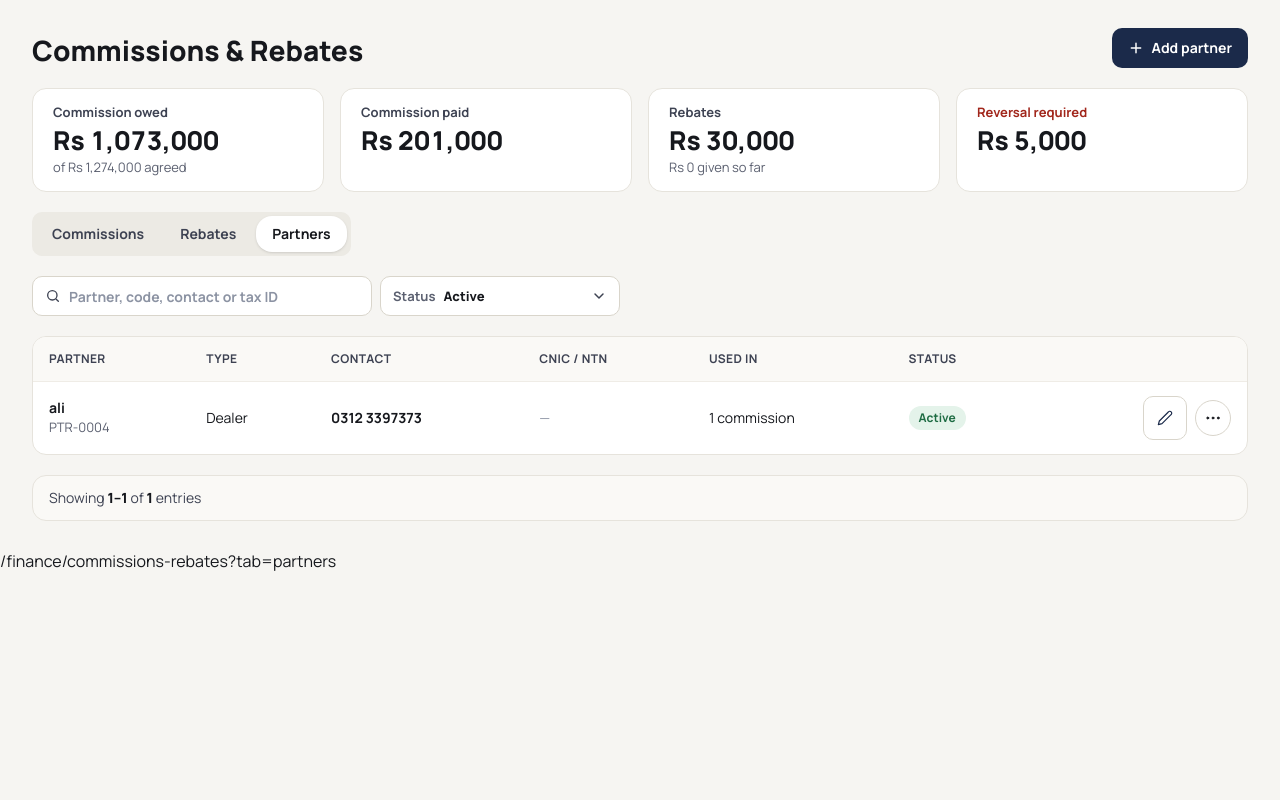
Commissions & Rebates: frame, cards and tabs › drops the notes and the red tone when a reload of the cards fails
Expected: the text "of Rs 1,274,000 agreed" is shown, [53,158,187,176]
Click the button named "More for ali".
click(1213, 418)  # box [1195,400,1231,436]
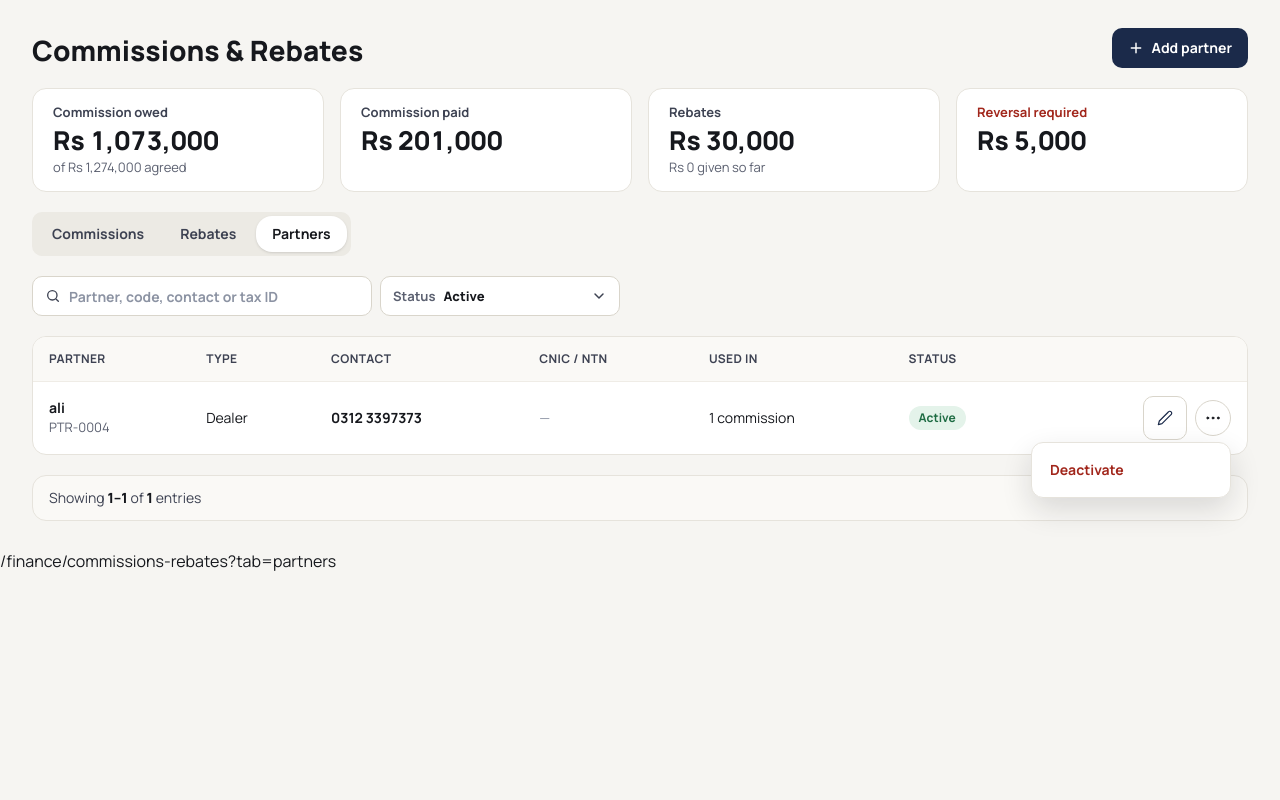
Click the menu item "Deactivate".
click(1131, 470)  # box [1038,449,1224,491]
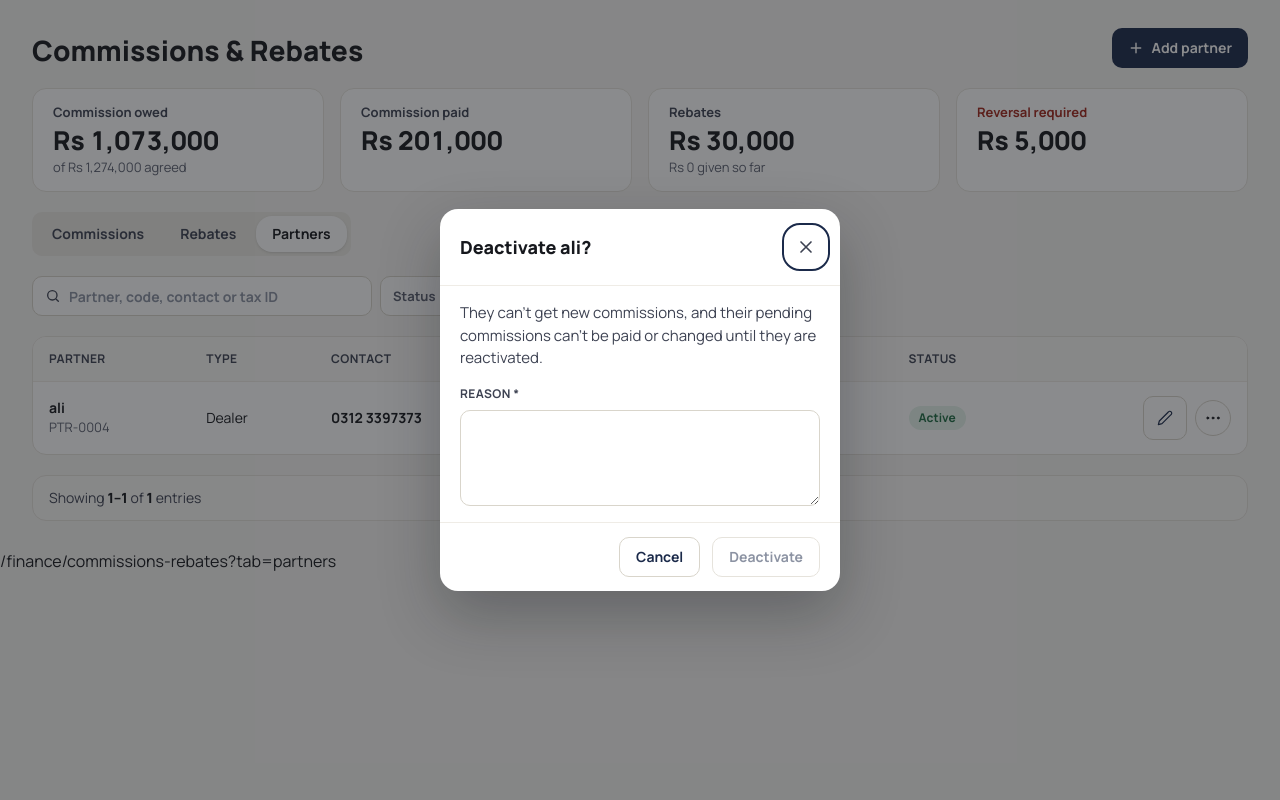
Type "Gone" into the text box labelled "Reason *".
click(640, 458); type("Gone")  # box [460,410,820,506]
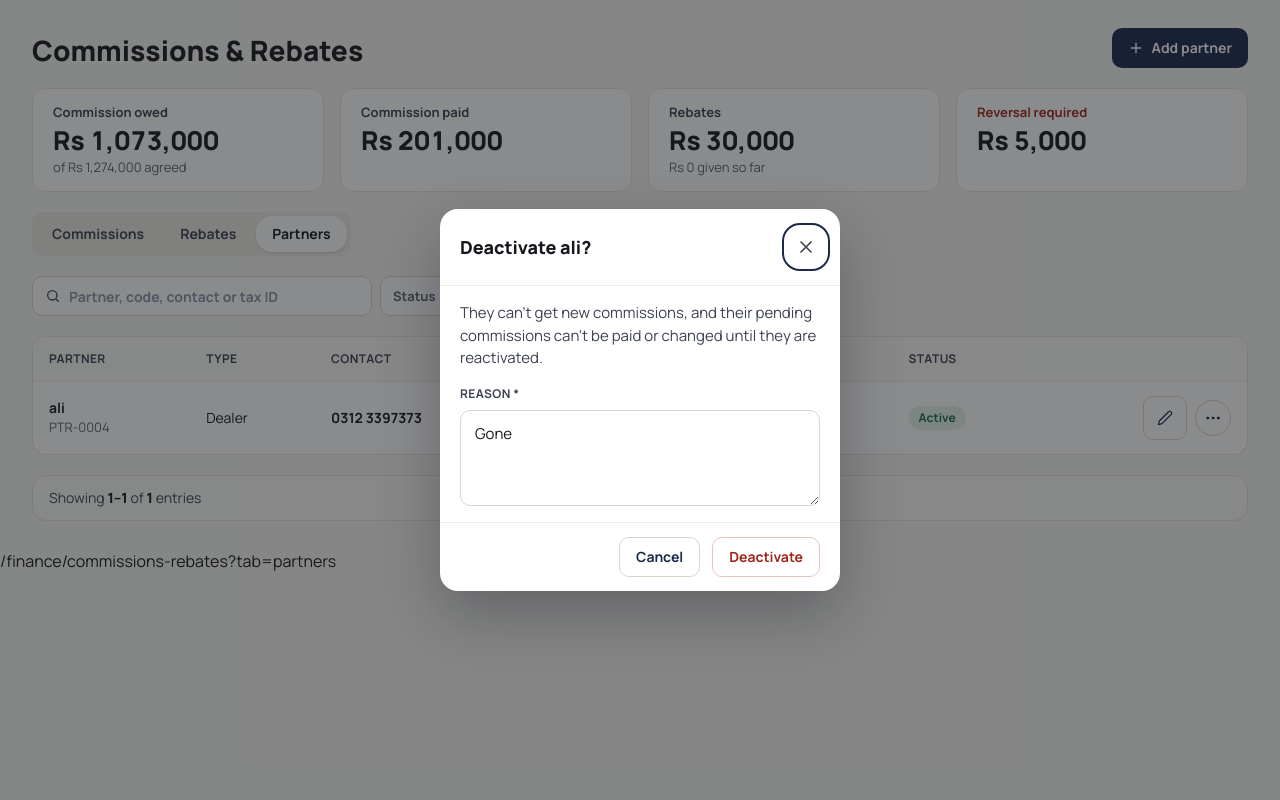
Click the button "Deactivate".
click(766, 556)  # box [712,536,820,576]
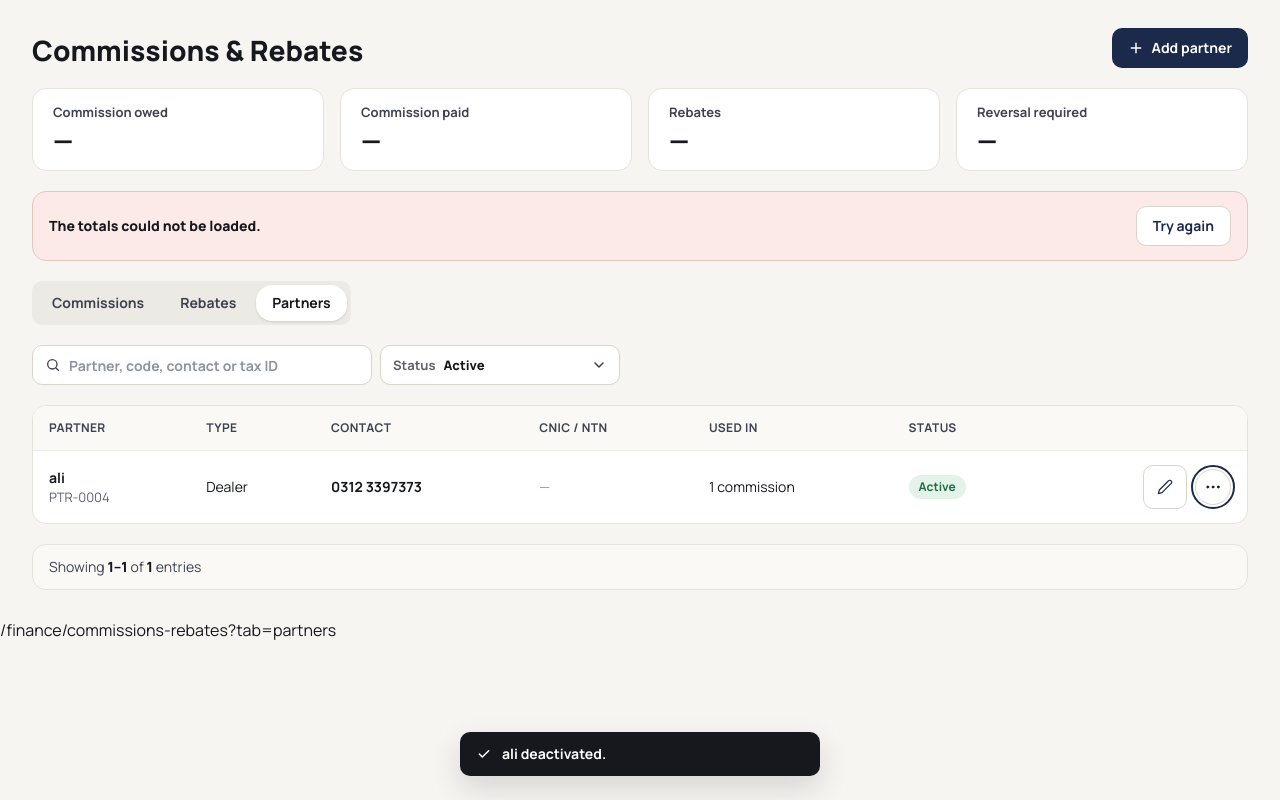
Expected: the text "The totals could not be loaded." is shown, [49,216,261,235]
Expected: the text "of Rs 1,274,000 agreed" is gone
Expected: the text "Rs 0 given so far" is gone
